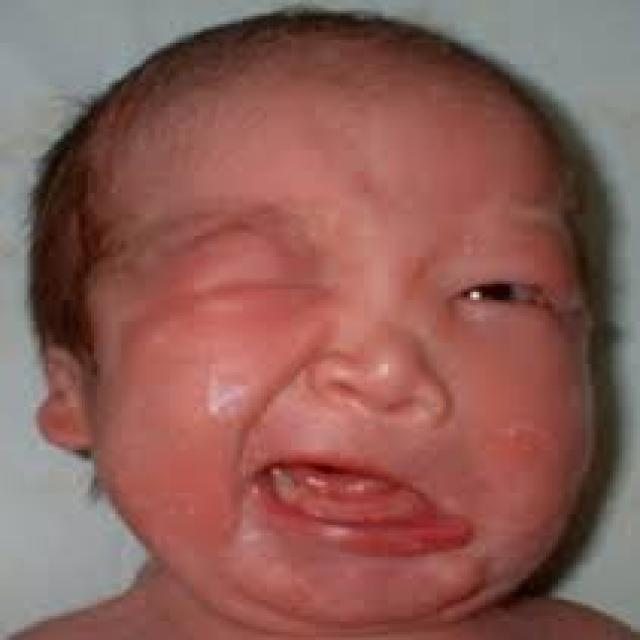stroke_face: (80, 17, 600, 618)
